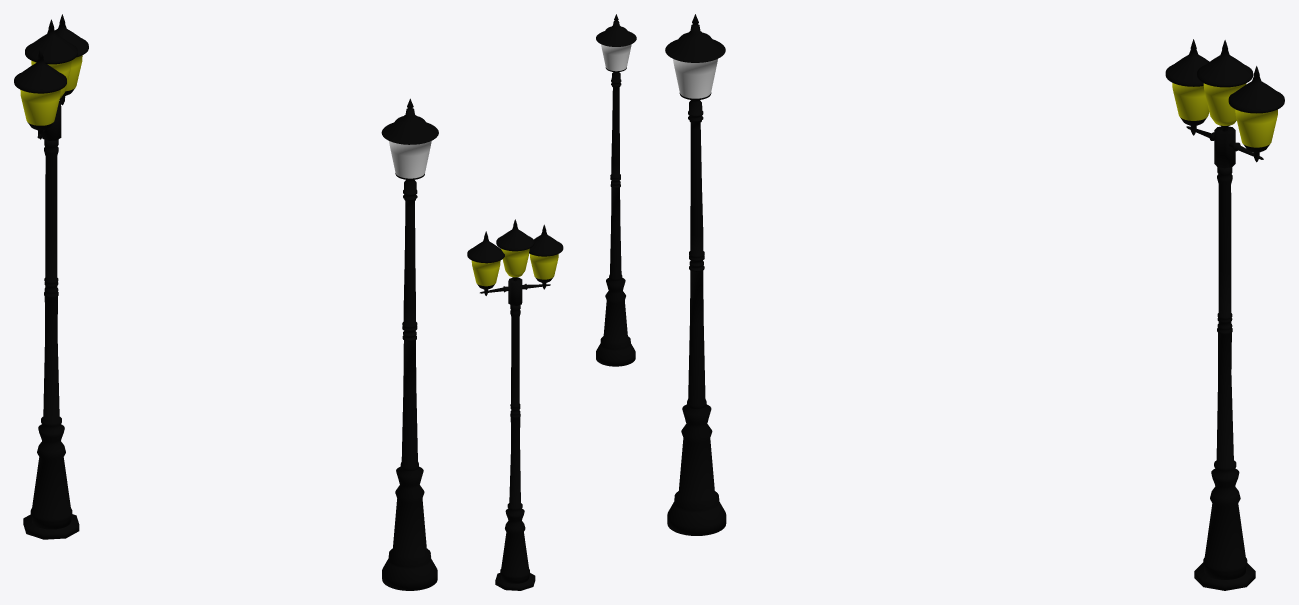
The model's file is lamppost.fbx.
3 renders of one model, left to right at view 1: azimuth 30°, elevation 25°; view 2: azimuth 150°, elevation 25°; view 3: azimuth 270°, elevation 25°, orthographic. The views are drawn at different scales.
Parts seen in each view (by area): view 1: Cylinder_001, Cylinder_002; view 2: Cylinder_001, Cylinder_002; view 3: Cylinder_001, Cylinder_002.
Boxes of the visible parts, x1,y1,x2,y2 form: Cylinder_001: (14, 14, 88, 539); Cylinder_002: (381, 98, 438, 590); Cylinder_001: (467, 219, 563, 590); Cylinder_002: (596, 14, 636, 366); Cylinder_001: (1165, 39, 1284, 590); Cylinder_002: (665, 14, 726, 535).
Bounding box in the file's own units: 0.7484 × 2.3 × 2.08.
